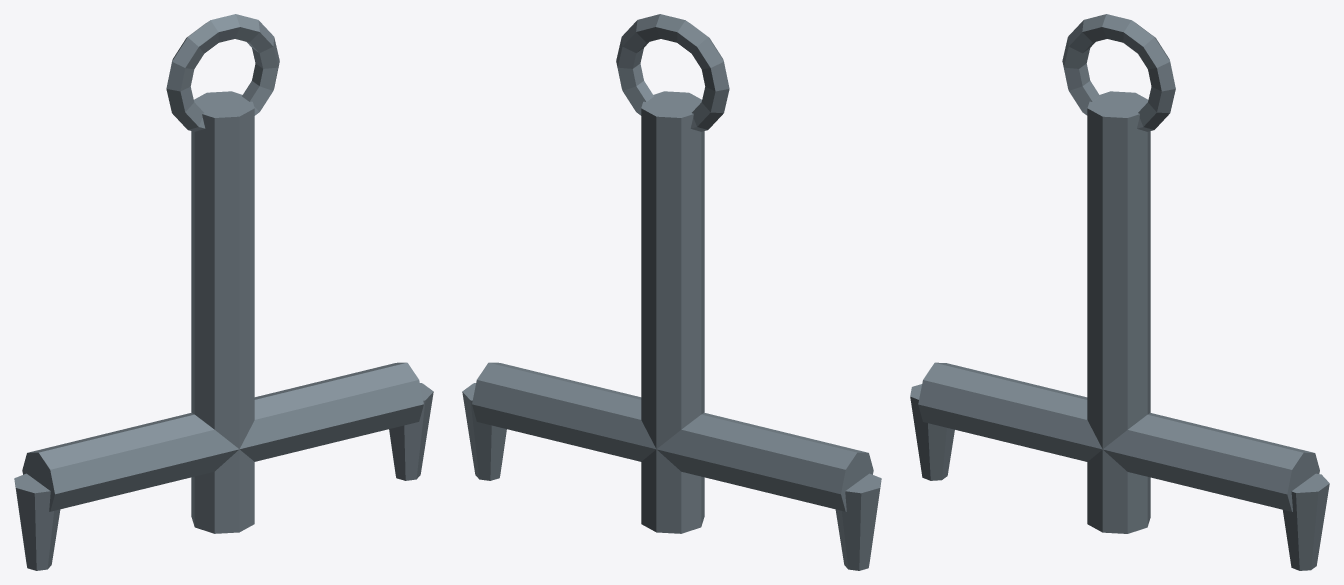
The model's file is ancla.glb.
3 views of the same model, side by side, from view 1: azimuth 30°, elevation 25°; view 2: azimuth 150°, elevation 25°; view 3: azimuth 330°, elevation 25° (orthographic).
Visible parts, largest first — view 1: ancla; view 2: ancla; view 3: ancla.
Part boxes in pixels (bbox=[...]): ancla: bbox=[14, 14, 433, 570]; ancla: bbox=[462, 14, 881, 570]; ancla: bbox=[910, 14, 1329, 570].
Size of the model in its own units: 1.45 by 1.69 by 0.2.
